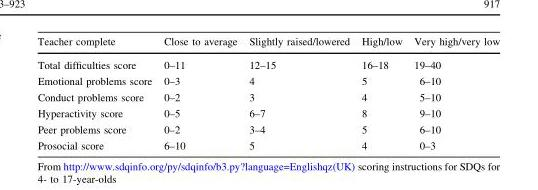table: (36, 36, 499, 150)
table column: (36, 36, 157, 150), (242, 36, 355, 150), (407, 36, 499, 150), (157, 36, 242, 150), (355, 36, 407, 150)
table column header: (36, 36, 499, 53)
table row: (36, 53, 499, 73), (36, 36, 499, 53), (36, 73, 499, 89), (36, 89, 499, 105), (36, 105, 499, 121), (36, 121, 499, 137), (36, 137, 499, 150)
